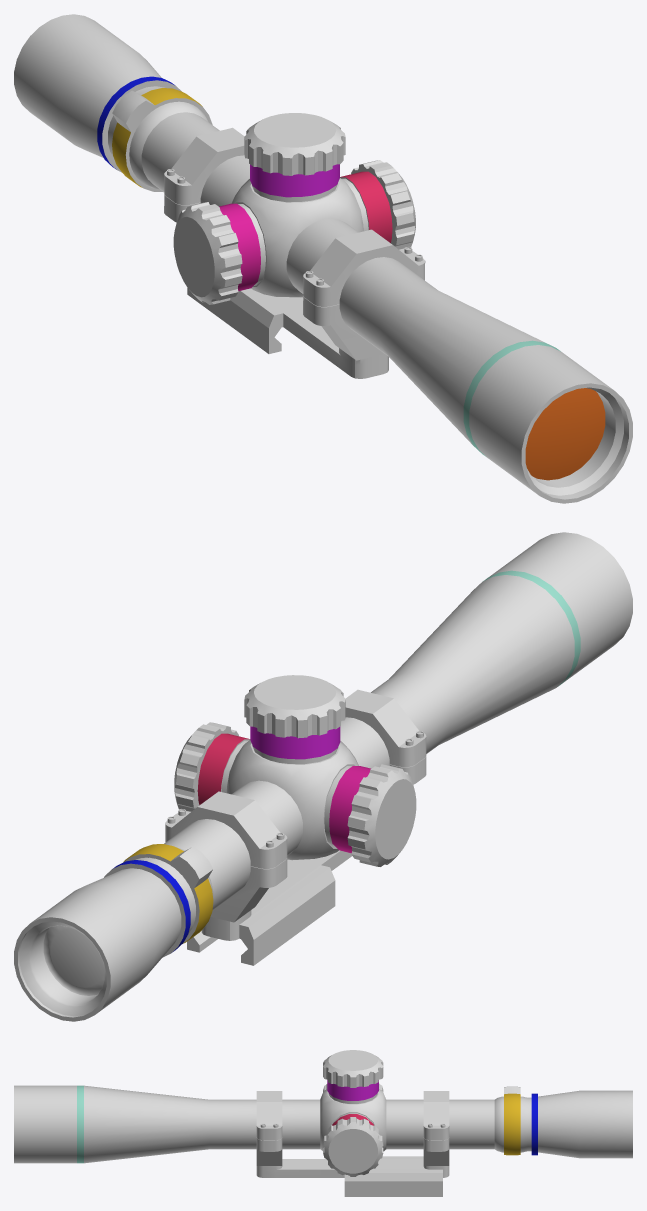
The model's file is Sight_Scope.dae.
The picture shows the model from 3 angles, top to bottom: view 1: azimuth 30°, elevation 25°; view 2: azimuth 150°, elevation 25°; view 3: azimuth 270°, elevation 25°; orthographic projection. The views are drawn at different scales.
Parts seen in each view (by area): view 1: Leupold_Hull; view 2: Leupold_Hull, Leupold_Lens; view 3: Leupold_Hull.
Part boxes in pixels (x1,y1,x2,y2): Leupold_Hull: (14,14,632,503); Leupold_Hull: (14,532,632,1021); Leupold_Lens: (43,925,104,995); Leupold_Hull: (14,1050,632,1196).
Bounding box in the file's own units: 0.0819 × 0.3632 × 0.082.
